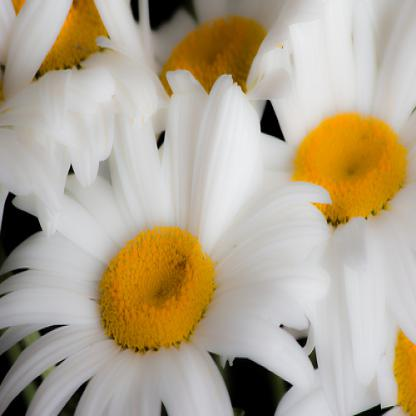ASTER: (6, 19, 396, 400)
